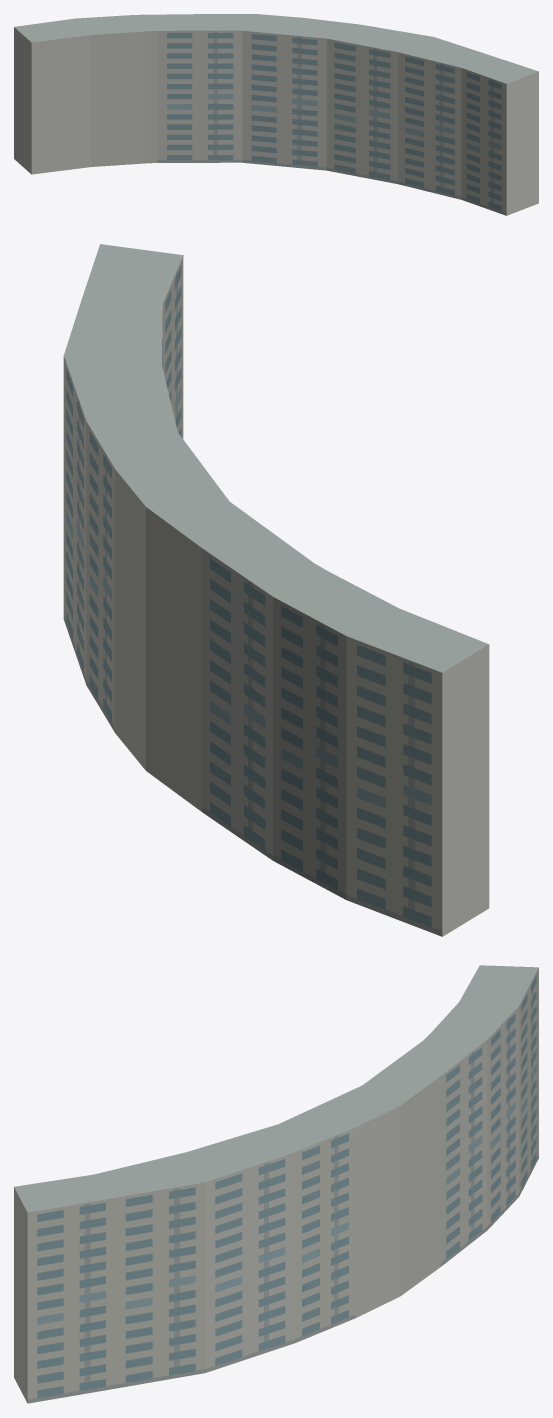
Rendered from residential-72caa413-35f1-4784-97a2-0409e6b3bd8c.glb.
3 renders of one model, top to bottom at view 1: azimuth 30°, elevation 25°; view 2: azimuth 150°, elevation 25°; view 3: azimuth 270°, elevation 25°, orthographic. The views are drawn at different scales.
Parts seen in each view (by area): view 1: residential-72caa413-35f1-4784-97a2-0409e6b3bd8c.tmp; view 2: residential-72caa413-35f1-4784-97a2-0409e6b3bd8c.tmp; view 3: residential-72caa413-35f1-4784-97a2-0409e6b3bd8c.tmp.
Boxes of the visible parts, x1=… form: residential-72caa413-35f1-4784-97a2-0409e6b3bd8c.tmp: x1=14, y1=14, x2=538, y2=215; residential-72caa413-35f1-4784-97a2-0409e6b3bd8c.tmp: x1=63, y1=244, x2=489, y2=936; residential-72caa413-35f1-4784-97a2-0409e6b3bd8c.tmp: x1=14, y1=965, x2=538, y2=1403.
Size of the model in its own units: 110 by 39.65 by 98.86.
